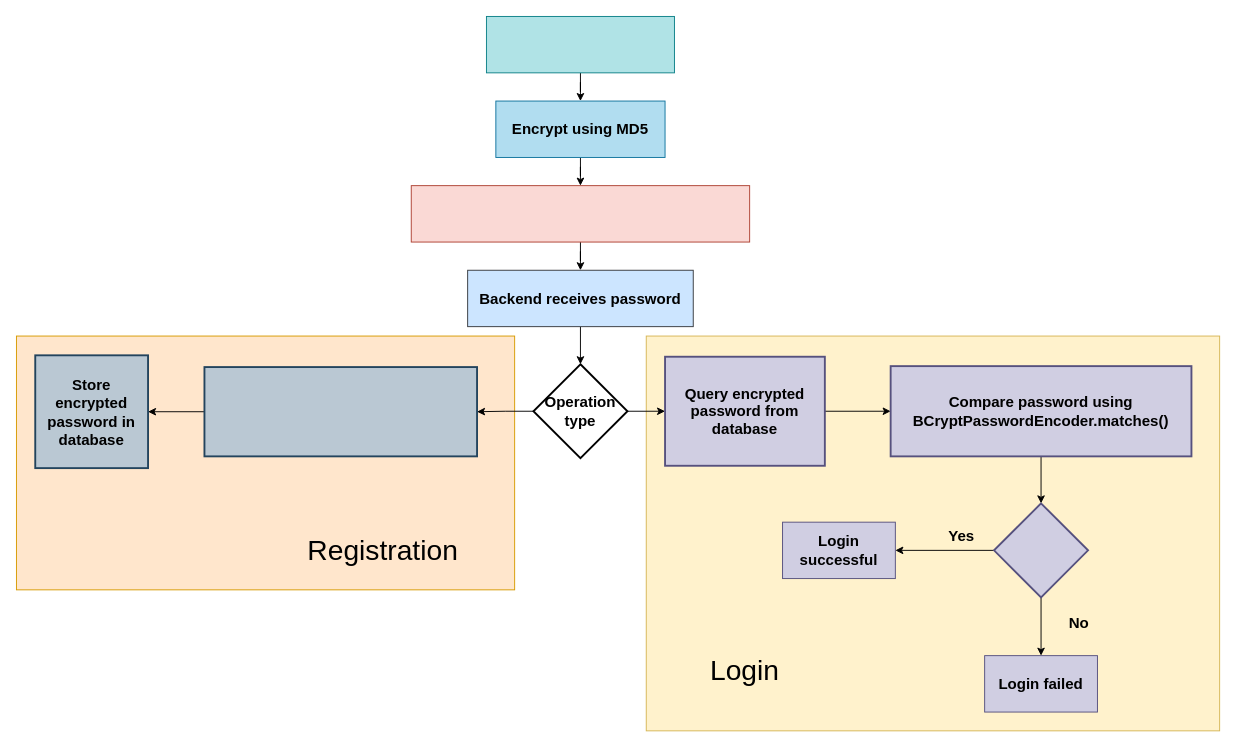
This 1236x747 diagram has some shape labels left out. Each missing label, with the box of its shape:
Encrypt password BCryptPasswordEncoder.encode(): (203, 366, 478, 457)
Is match?: (993, 502, 1089, 598)
Transmit the hashed password to the backend: (410, 185, 750, 242)
User enters password: (486, 16, 674, 73)
